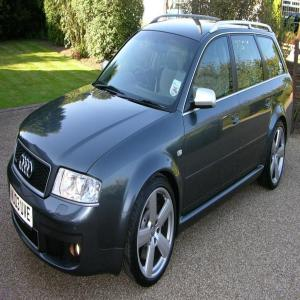Vehicle-registration-plate: (11, 184, 34, 229)
